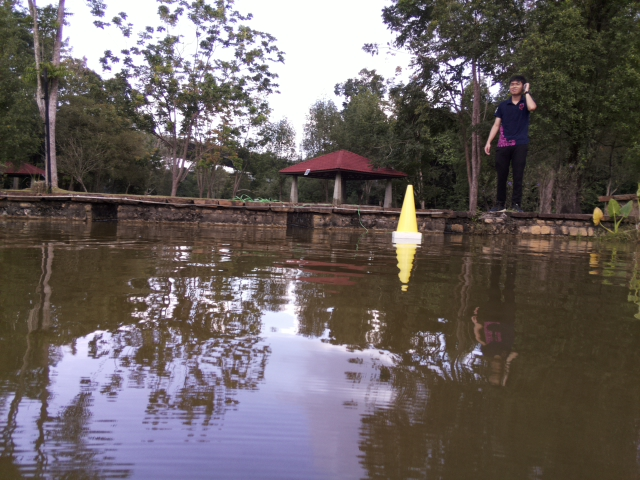checkpoint: (391, 183, 423, 239)
